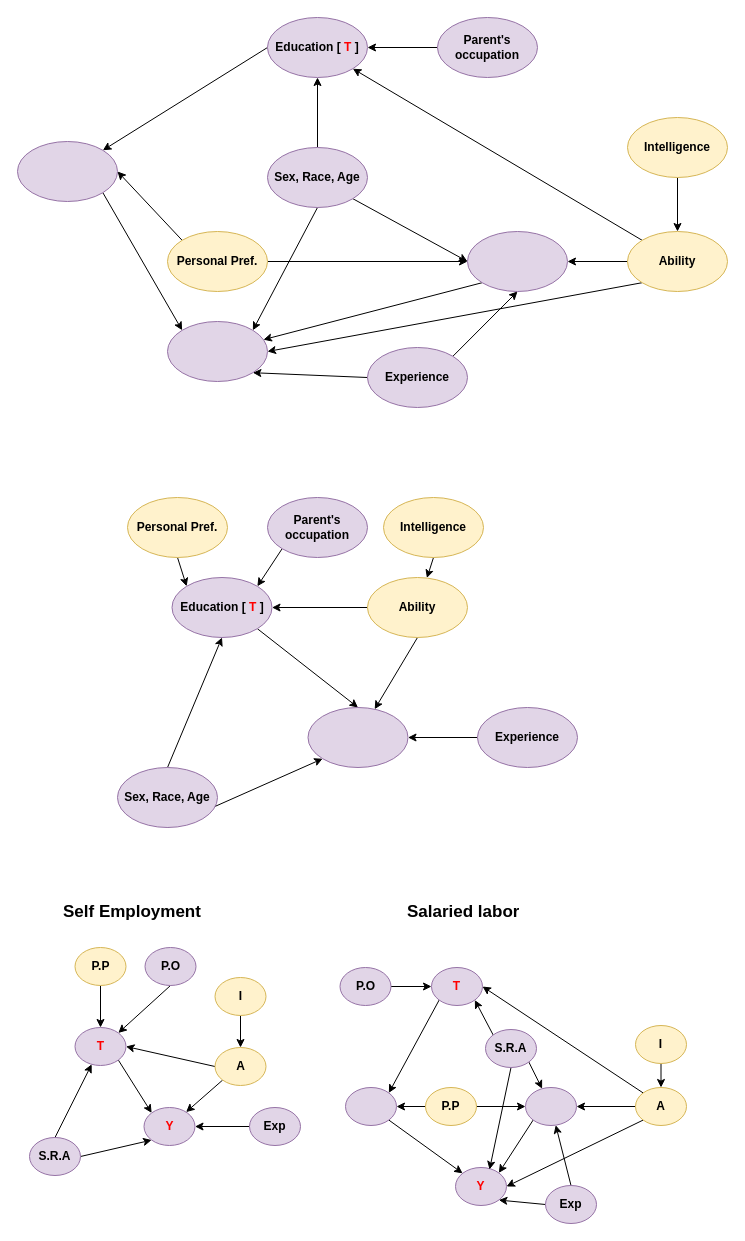
This 745x1241 diagram has some shape labels left out. The shapes that lost their labels are listed below. From the top down, each one's centre as x and y in pixels, then its label:
At point (67, 171): "Industry".
At point (517, 261): "Job level".
At point (217, 351): "Hourly rate [ Y ]".
At point (357, 737): "Yearly income [ Y ]".
At point (370, 1106): "Ind".
At point (550, 1106): "J.L".
